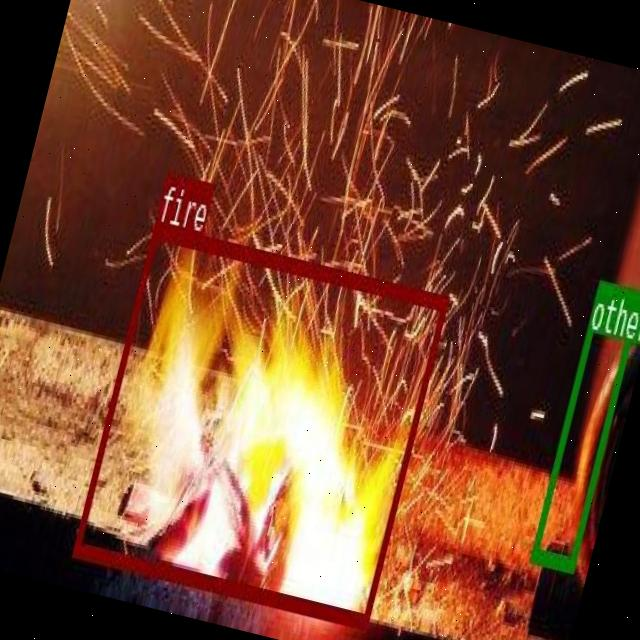fire: (71, 221, 448, 626)
